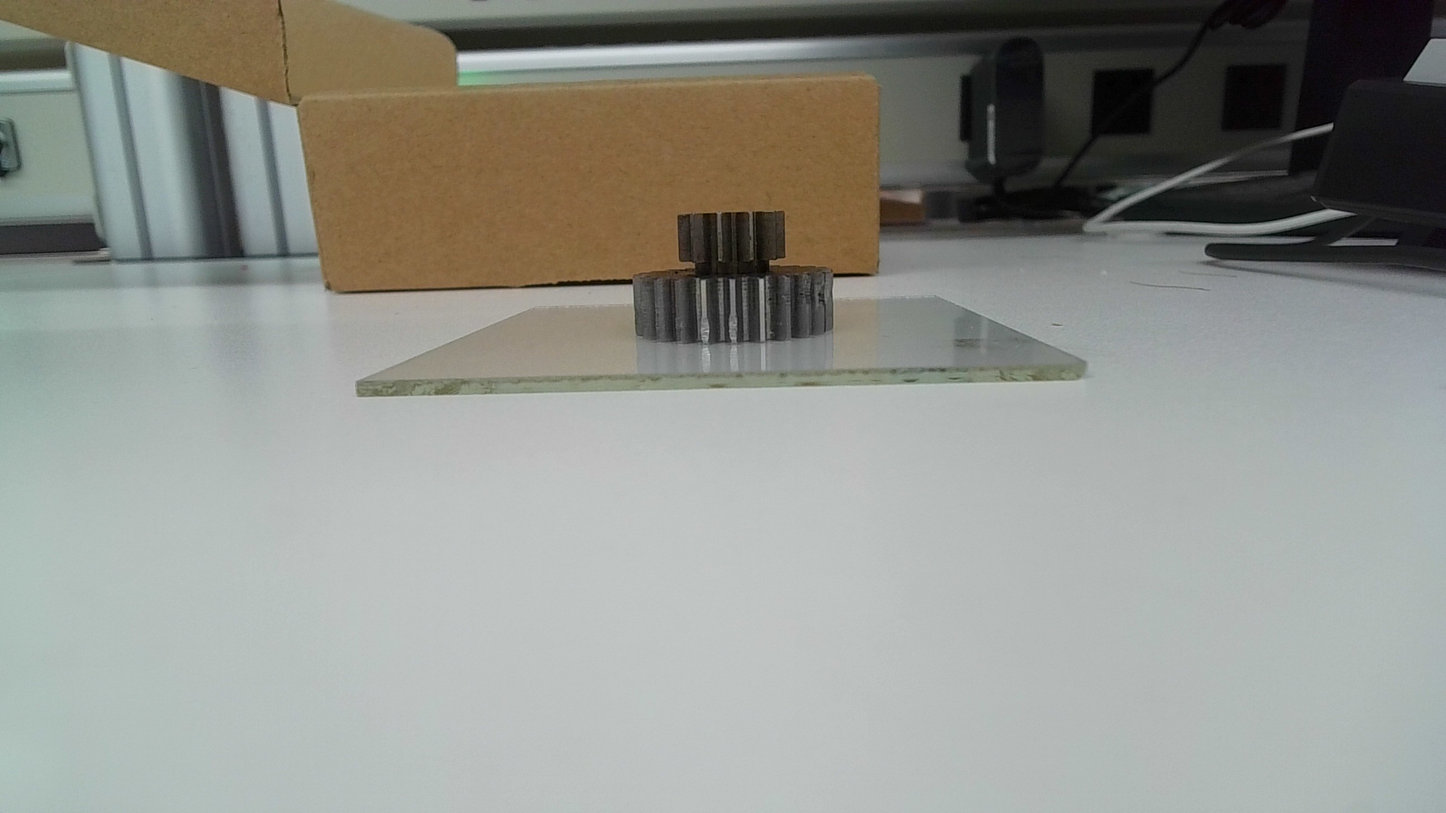gear: (632, 210, 839, 347)
